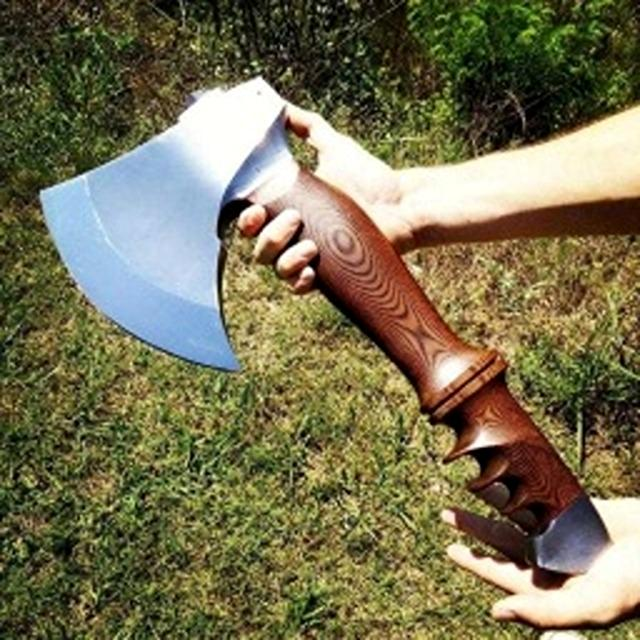ax: (18, 54, 622, 593)
